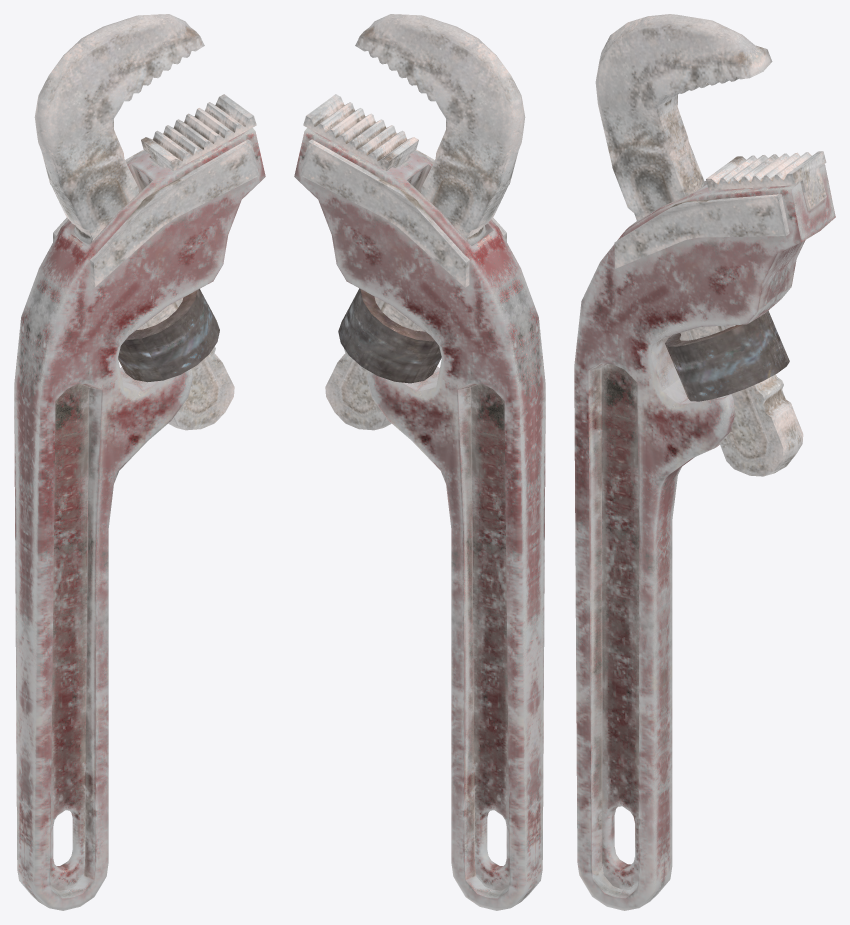
Rendered from wrench_textured.FBX.
3 views of the same model, side by side, from view 1: azimuth 30°, elevation 25°; view 2: azimuth 150°, elevation 25°; view 3: azimuth 330°, elevation 25° (orthographic). The views are drawn at different scales.
Visible parts, largest first — view 1: M_Low; view 2: M_Low; view 3: M_Low.
Part boxes in pixels (bbox=[...]): M_Low: bbox=[14, 14, 265, 910]; M_Low: bbox=[294, 14, 545, 910]; M_Low: bbox=[574, 14, 835, 910].
Size of the model in its own units: 12.31 by 45.23 by 4.82.
1 material, 1 textured.
